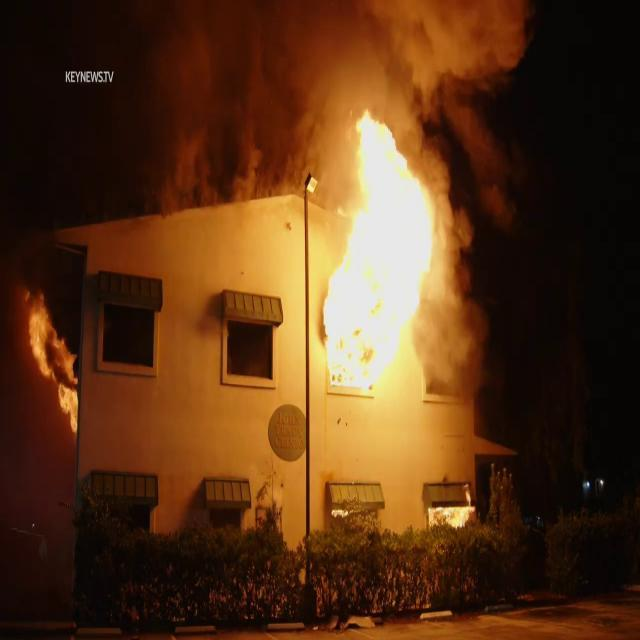Fire: (316, 135, 455, 401), (17, 290, 84, 439), (421, 474, 482, 538)
Smoke: (98, 0, 558, 194)
